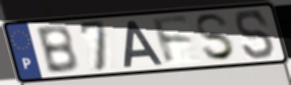7: (77, 19, 109, 74)
A: (123, 19, 166, 69)
B: (33, 23, 81, 76)
F: (149, 14, 196, 67)
S: (233, 8, 277, 62), (193, 12, 238, 63)
